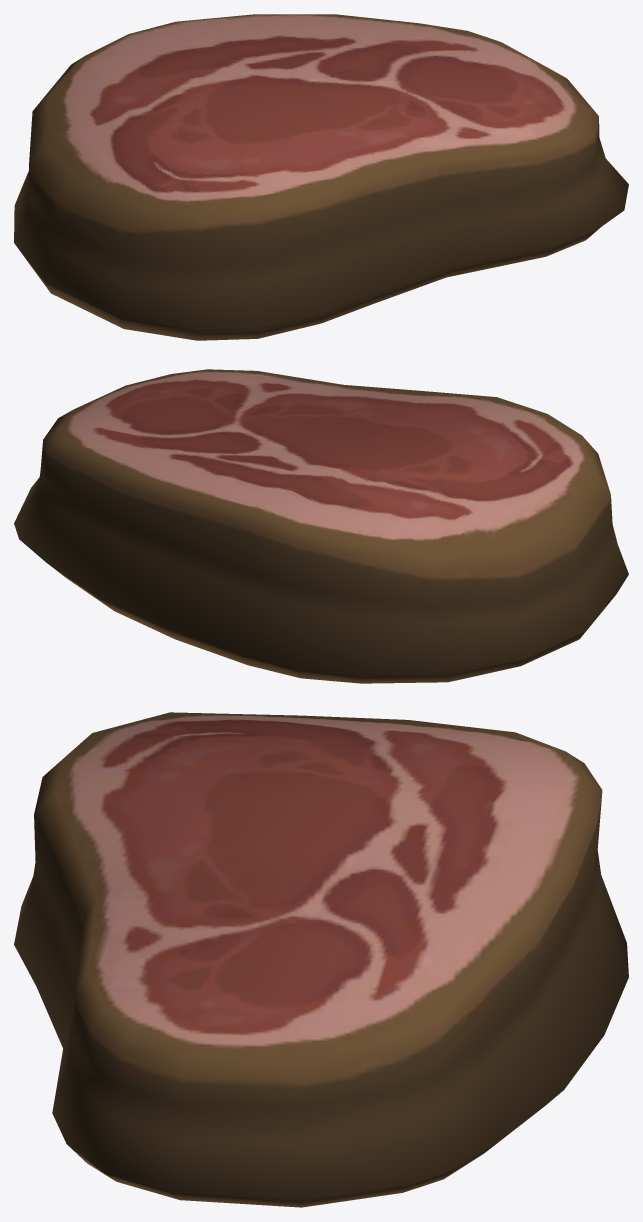
The model's file is Item_Meat_01.glb.
The picture shows the model from 3 angles, top to bottom: view 1: azimuth 30°, elevation 25°; view 2: azimuth 150°, elevation 25°; view 3: azimuth 270°, elevation 25°; orthographic projection. The views are drawn at different scales.
Visible parts, largest first — view 1: Item_Meat_01; view 2: Item_Meat_01; view 3: Item_Meat_01.
Boxes of the visible parts, x1,y1,x2,y2 form: Item_Meat_01: (14,14,628,340); Item_Meat_01: (14,369,628,683); Item_Meat_01: (14,712,628,1207).
Bounding box in the file's own units: 0.8569 × 0.2199 × 0.5999.
Materials: 1 (1 with a texture image).
